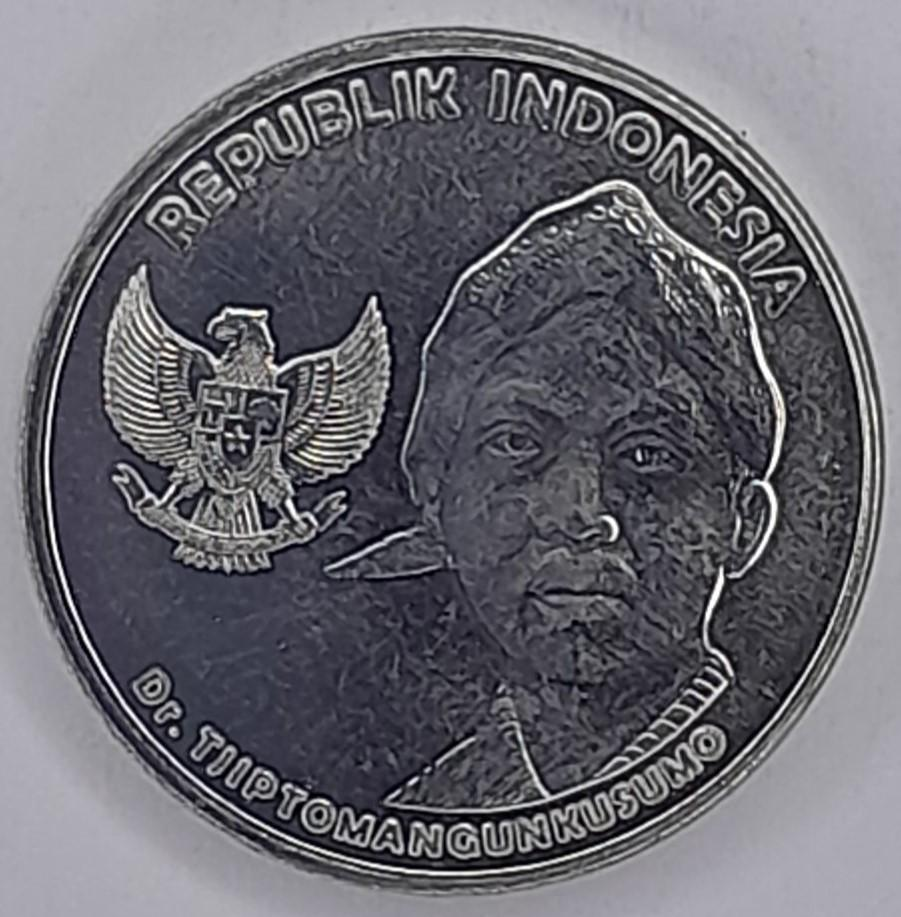coin_200_e2016: (0, 16, 901, 917)
